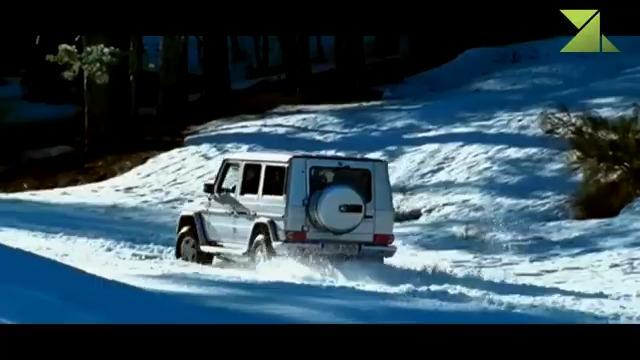MIL_HMMWV: (175, 153, 397, 266)
